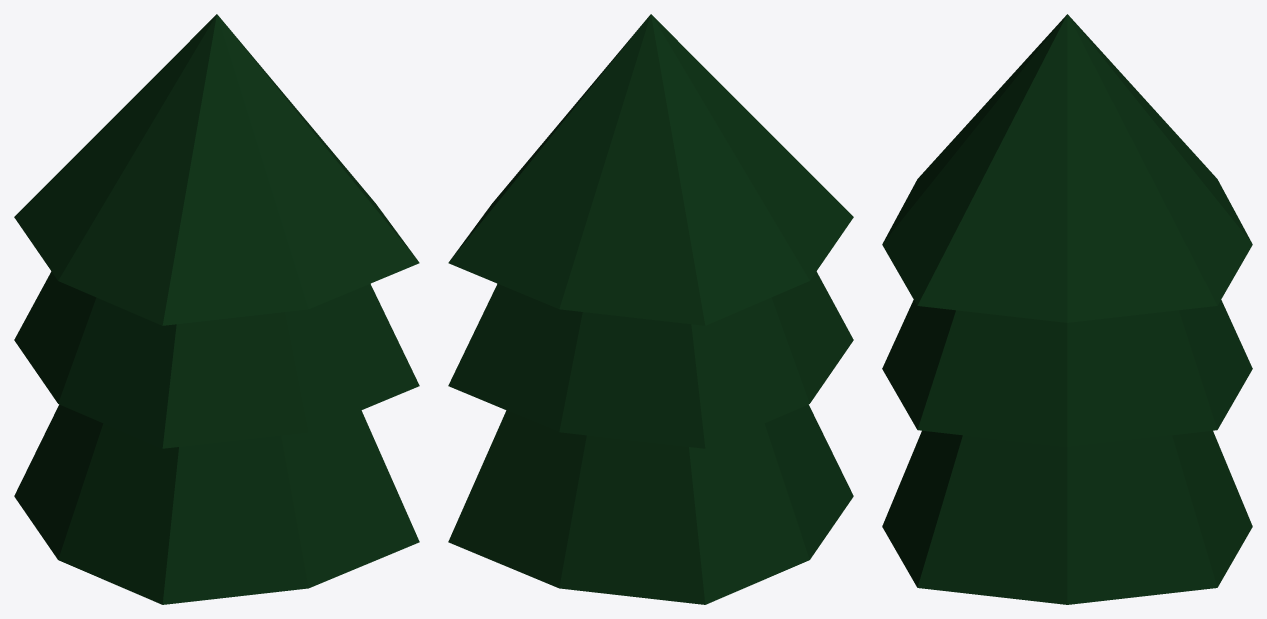
File: Bush_a_01.fbx
3 renders of one model, left to right at view 1: azimuth 30°, elevation 25°; view 2: azimuth 150°, elevation 25°; view 3: azimuth 270°, elevation 25°, orthographic.
Visible parts, largest first — view 1: Bush_a_01_LOD0; view 2: Bush_a_01_LOD0; view 3: Bush_a_01_LOD0.
Boxes of the visible parts, x1,y1,x2,y2 form: Bush_a_01_LOD0: (14, 14, 419, 604); Bush_a_01_LOD0: (448, 14, 853, 604); Bush_a_01_LOD0: (882, 14, 1252, 604).
Size of what is drawn, in the model's own units: 13.54 by 20.66 by 13.54.
